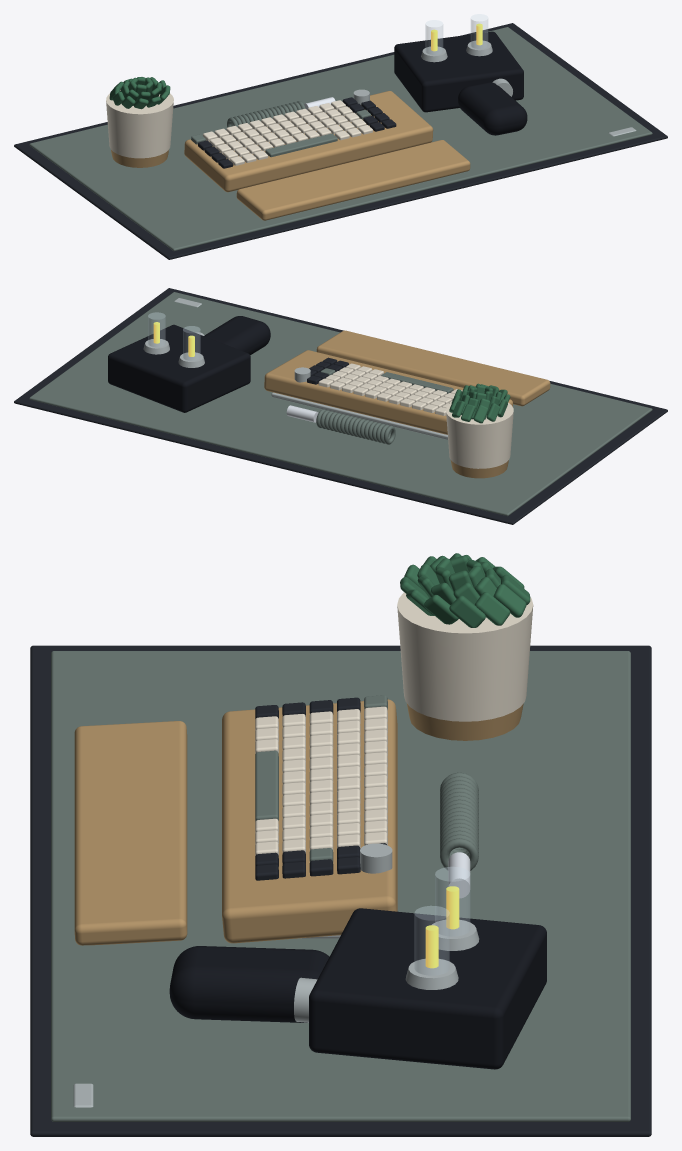
The model's file is atelier-decor-mechanical-nordic.glb.
The picture shows the model from 3 angles, top to bottom: view 1: azimuth 30°, elevation 25°; view 2: azimuth 150°, elevation 25°; view 3: azimuth 270°, elevation 25°; orthographic projection. The views are drawn at different scales.
Bounding box in the file's own units: 0.78 × 0.1226 × 0.4201.
